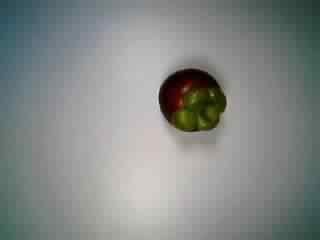mangosteen: (153, 62, 227, 134)
